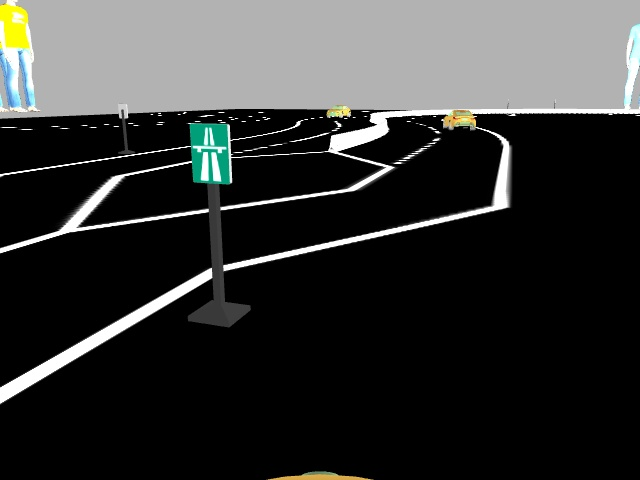HighwayEntrance: (184, 121, 234, 184)
